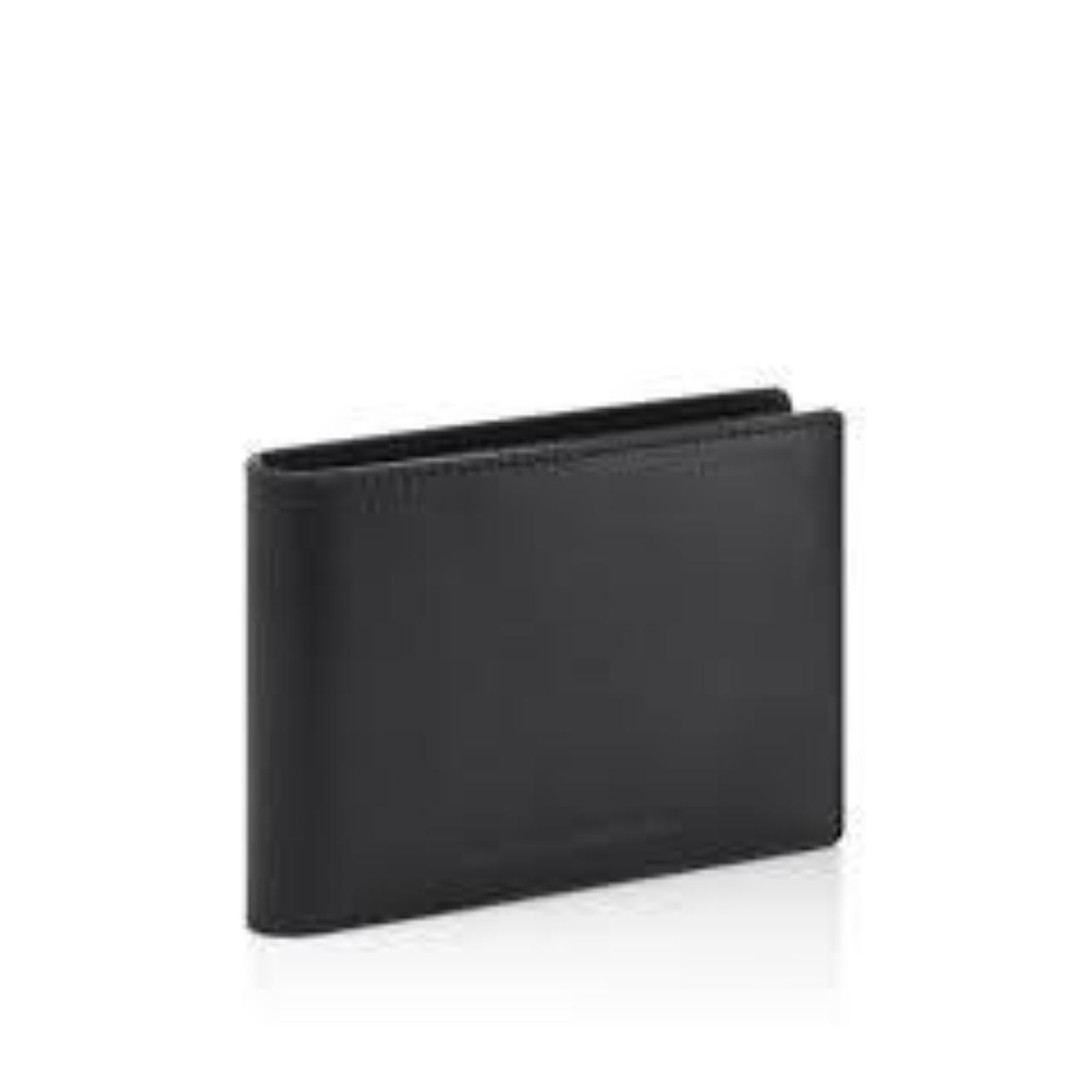wallet: (211, 373, 946, 1032)
